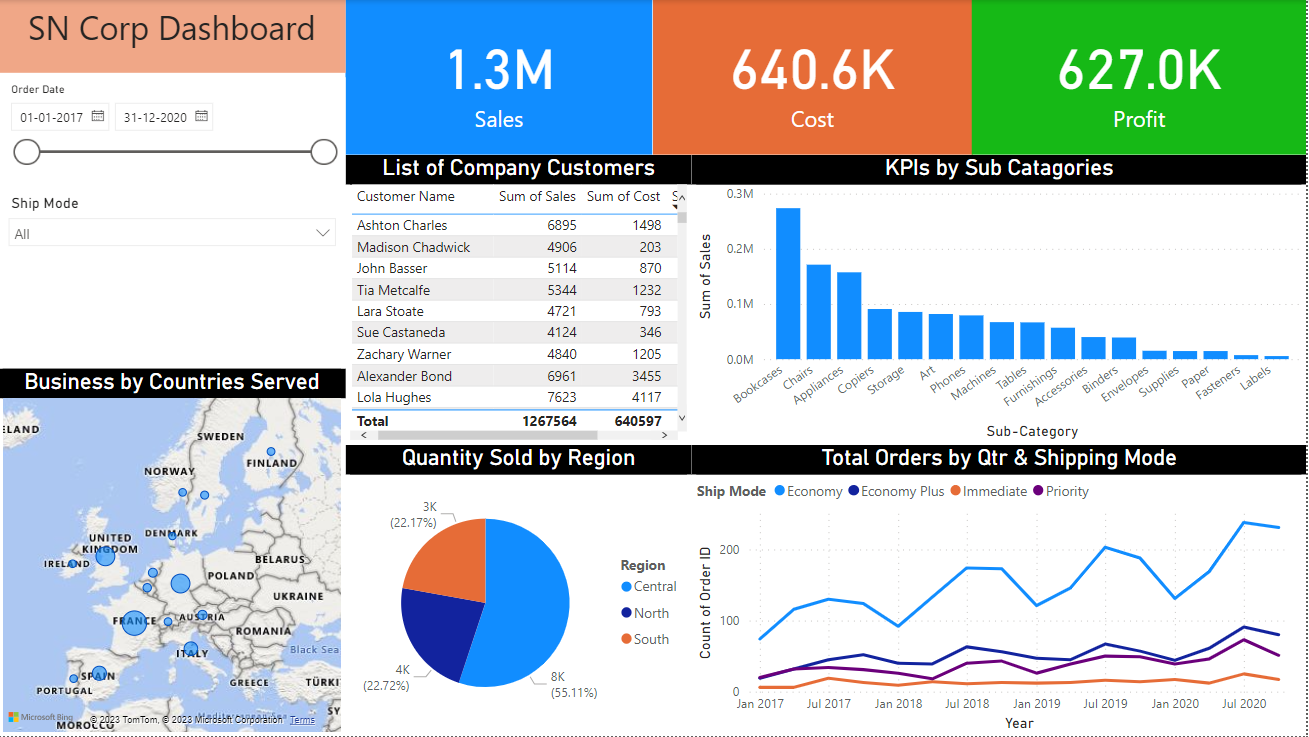

What the dashboard file says about the page in this screenshot:
{"tool":"powerbi","page":{"name":"Page 1","canvas":[1280,720],"ordinal":0},"visuals":[{"type":"card","fields":{"Values":["List of Orders.Sales"]},"box":[340,0,300,151.2],"z":0},{"type":"card","fields":{"Values":["List of Orders.Cost"]},"box":[640,0,312.5,151.2],"z":1000},{"type":"card","fields":{"Values":["List of Orders.Profit"]},"box":[952.5,0,327.5,151.2],"z":2000},{"type":"tableEx","title":"List of Company Customers","fields":{"Values":["List of Orders.Customer Name","List of Orders.Sales","List of Orders.Cost","List of Orders.Profit"]},"box":[340,151.2,338.8,283.8],"z":3000},{"type":"clusteredColumnChart","title":"KPIs by Sub Catagories","fields":{"Y":["List of Orders.Sales"],"Category":["List of Orders.Sub-Category"]},"box":[678.8,151.2,601.2,283.8],"z":4000},{"type":"lineChart","title":"Total Orders by Qtr & Shipping Mode","fields":{"Y":["List of Orders.Order ID"],"Category":["List of Orders.Order Date.Variation.Date Hierarchy.Year","List of Orders.Order Date.Variation.Date Hierarchy.Quarter"],"Series":["List of Orders.Ship Mode"]},"box":[678.8,435,601.2,285],"z":5000},{"type":"pieChart","title":"Quantity Sold by Region","fields":{"Y":["List of Orders.Quantity"],"Category":["List of Orders.Region"]},"box":[340,435,338.8,285],"z":6000},{"type":"map","title":"Business by Countries Served","fields":{"Category":["List of Orders.Country"],"Size":["List of Orders.Sales"]},"box":[0,360,340,360],"z":7000},{"type":"slicer","fields":{"Values":["List of Orders.Ship Mode"]},"box":[0,185,340,175],"z":8000},{"type":"slicer","fields":{"Values":["List of Orders.Order Date"]},"box":[0,76.2,340,108.8],"z":9000},{"type":"textbox","box":[0,0,340,71.2],"z":10000}]}

Visuals, with their boxes in screenshot pixels (x1, y1, x2, y2), scaled from the page's 1280x720 canvas onto the 1309x737 screenshot:
card - List of Orders.Sales: 348/0/654/155
card - List of Orders.Cost: 654/0/974/155
card - List of Orders.Profit: 974/0/1308/155
"List of Company Customers" tableEx: 348/155/694/445
"KPIs by Sub Catagories" clusteredColumnChart: 694/155/1308/445
"Total Orders by Qtr & Shipping Mode" lineChart: 694/445/1308/736
"Quantity Sold by Region" pieChart: 348/445/694/736
"Business by Countries Served" map: 0/368/348/736
slicer - List of Orders.Ship Mode: 0/189/348/368
slicer - List of Orders.Order Date: 0/78/348/189
textbox: 0/0/348/73
